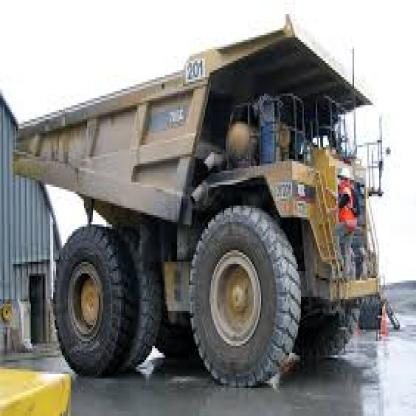dump_truck: (18, 9, 391, 388)
person: (322, 161, 370, 299)
